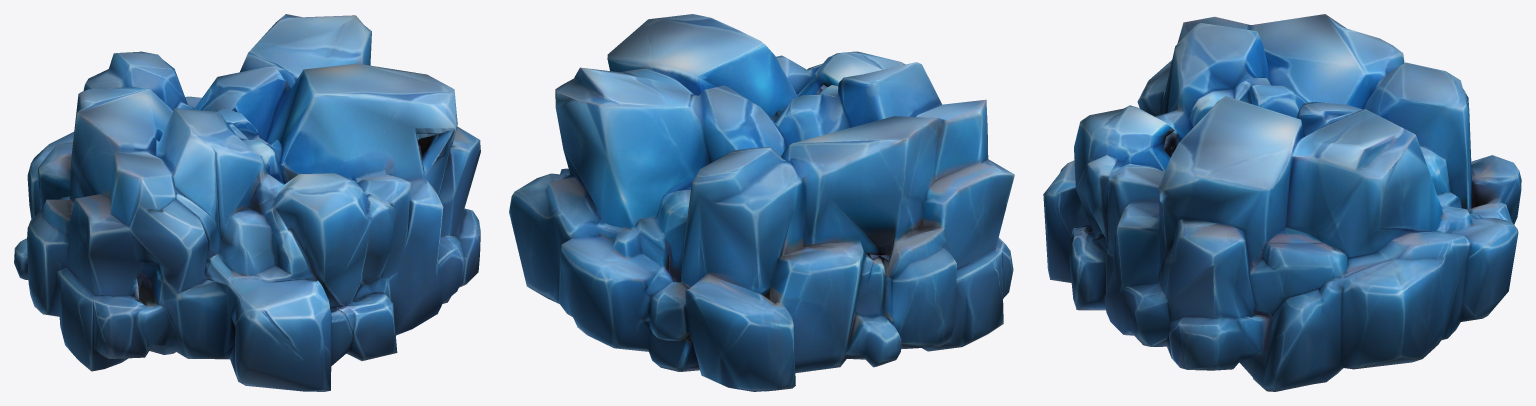
File: resource_credit_node.glb
The picture shows the model from 3 angles, left to right: view 1: azimuth 30°, elevation 25°; view 2: azimuth 150°, elevation 25°; view 3: azimuth 270°, elevation 25°; orthographic projection. The views are drawn at different scales.
Size of the model in its own units: 1.92 by 1.06 by 2.
Materials: 1 (1 with a texture image).
